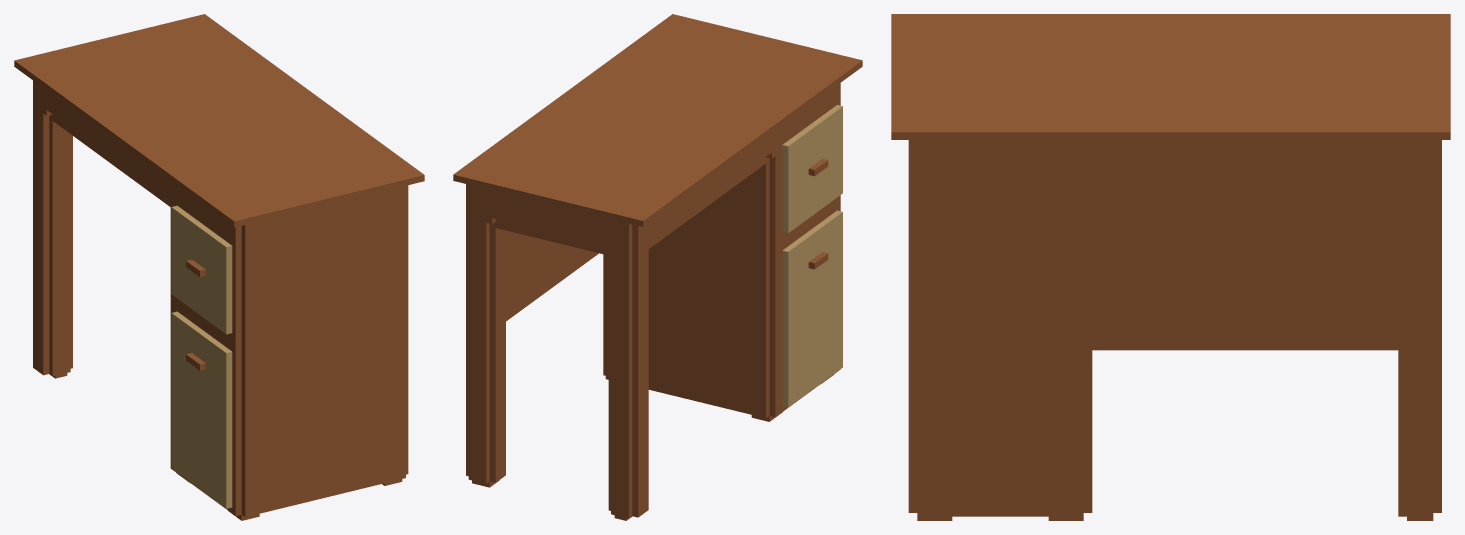
File: SchoolPack-77-desk.obj
The picture shows the model from 3 angles, left to right: view 1: azimuth 30°, elevation 25°; view 2: azimuth 150°, elevation 25°; view 3: azimuth 270°, elevation 25°; orthographic projection. The views are drawn at different scales.
Parts seen in each view (by area): view 1: desk; view 2: desk; view 3: desk.
Part boxes in pixels (x1,y1,x2,y2): desk: (14, 14, 424, 520); desk: (453, 14, 862, 520); desk: (891, 14, 1450, 520).
Size of the model in its own units: 3.2 by 5 by 6.4.
Materials: 1 (1 with a texture image).
